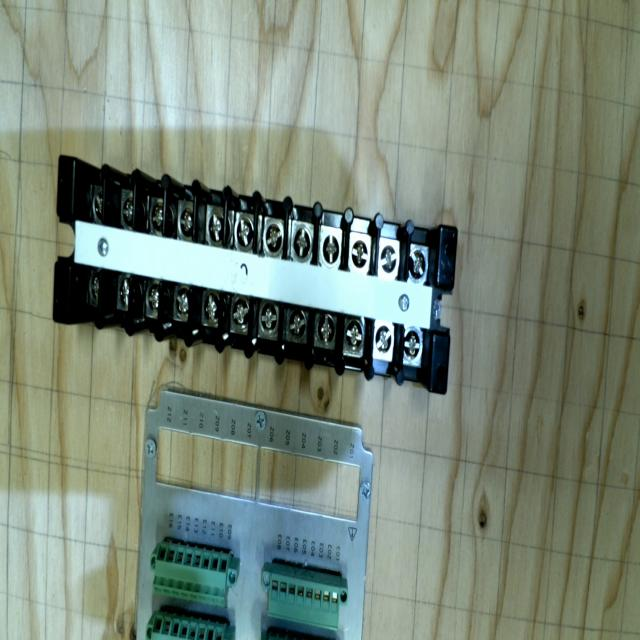Phillips_Block: (30, 155, 475, 393)
Terminal_2: (150, 543, 234, 607)
